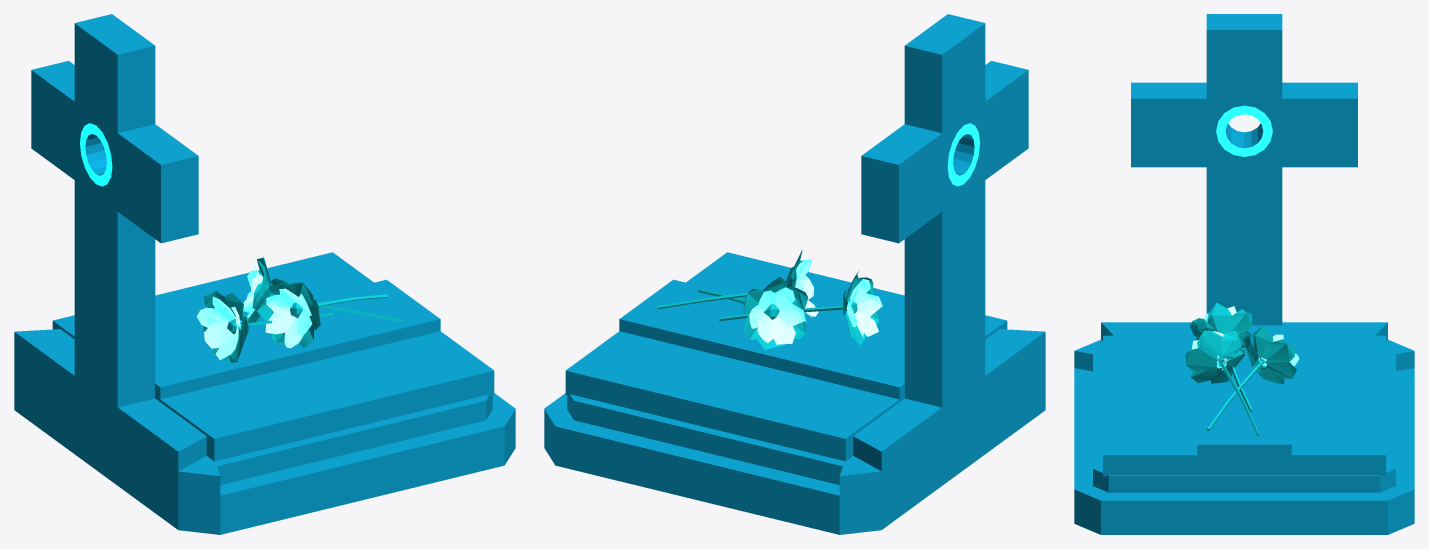
Rendered from Tomb2.fbx.
3 renders of one model, left to right at view 1: azimuth 30°, elevation 25°; view 2: azimuth 150°, elevation 25°; view 3: azimuth 270°, elevation 25°, orthographic. The views are drawn at different scales.
Visible parts, largest first — view 1: Tomb, Cube, Sphere.002; view 2: Tomb, Cube, Sphere.002; view 3: Tomb, Cube, Sphere.002.
Boxes of the visible parts, box(x1,y1,x2,y2) form: Tomb: box(14, 14, 515, 534); Cube: box(52, 252, 494, 461); Sphere.002: box(196, 257, 402, 362); Tomb: box(544, 14, 1045, 534); Cube: box(565, 252, 1007, 461); Sphere.002: box(657, 250, 882, 349); Tomb: box(1074, 14, 1414, 534); Cube: box(1103, 325, 1385, 476); Sphere.002: box(1185, 302, 1299, 435).
Bounding box in the file's own units: 90.04 × 110 × 90.
